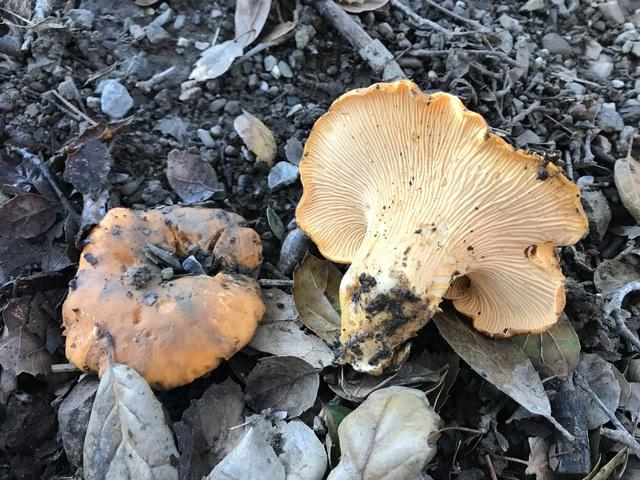Edible Mushroom: (293, 78, 589, 376), (59, 203, 266, 391)
